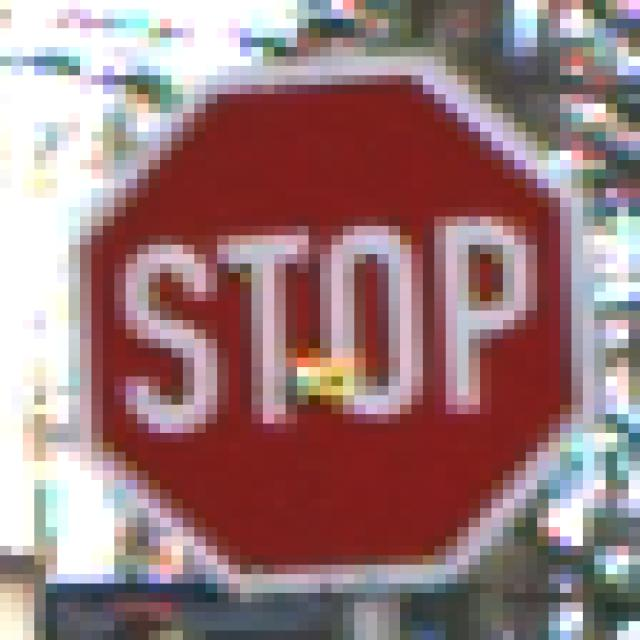STOP: (58, 58, 584, 585)
